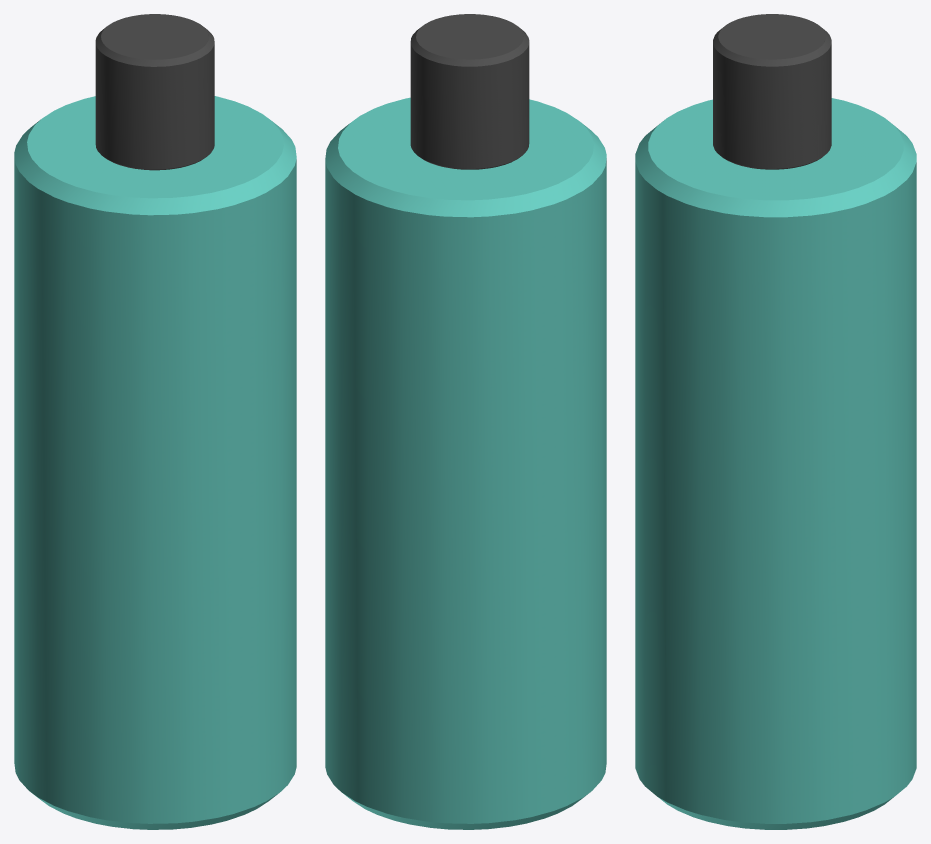
Rendered from T_Bottle_turq.fbx.
3 views of the same model, side by side, from view 1: azimuth 30°, elevation 25°; view 2: azimuth 150°, elevation 25°; view 3: azimuth 270°, elevation 25° (orthographic).
Visible parts, largest first — view 1: pCylinder2, pCylinder1; view 2: pCylinder2, pCylinder1; view 3: pCylinder2, pCylinder1.
Part boxes in pixels (x1,y1,x2,y2): pCylinder2: (14,96,296,829); pCylinder1: (95,14,214,170); pCylinder2: (325,97,606,829); pCylinder1: (410,14,529,169); pCylinder2: (635,98,916,829); pCylinder1: (713,14,831,169).
Size of the model in its own units: 2.35 by 6.8 by 2.35.
2 materials, 2 textured.
